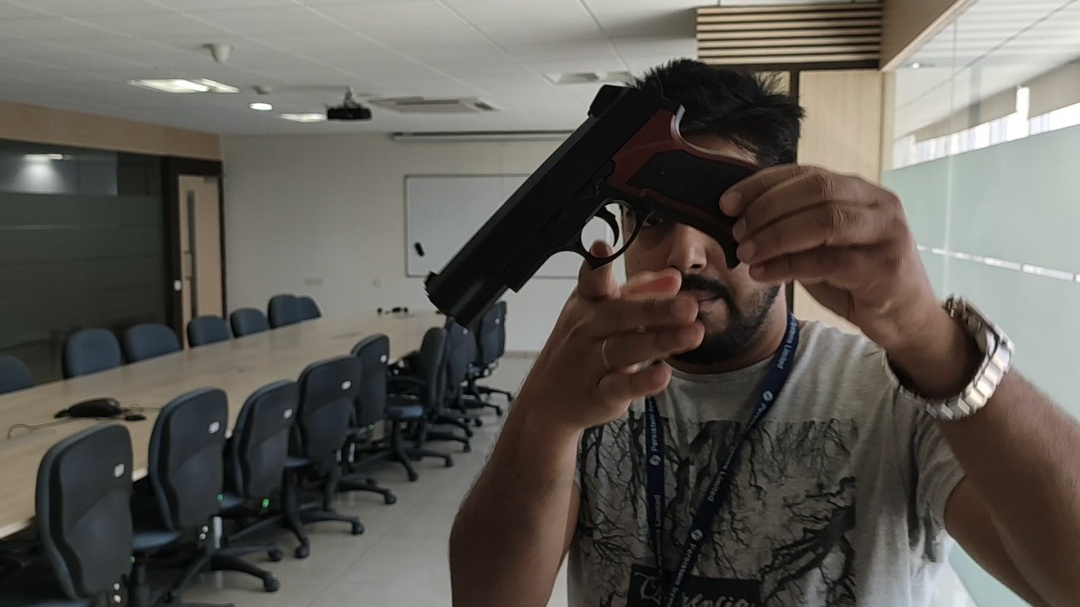gun: (420, 78, 764, 308)
